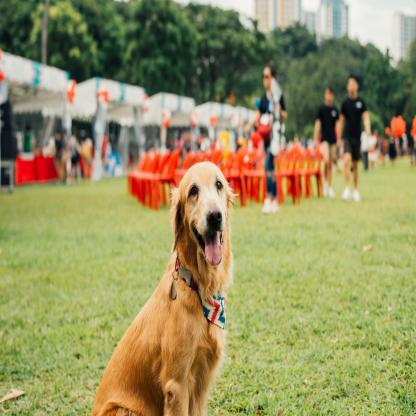Labarador Retriever: (96, 160, 233, 416)
